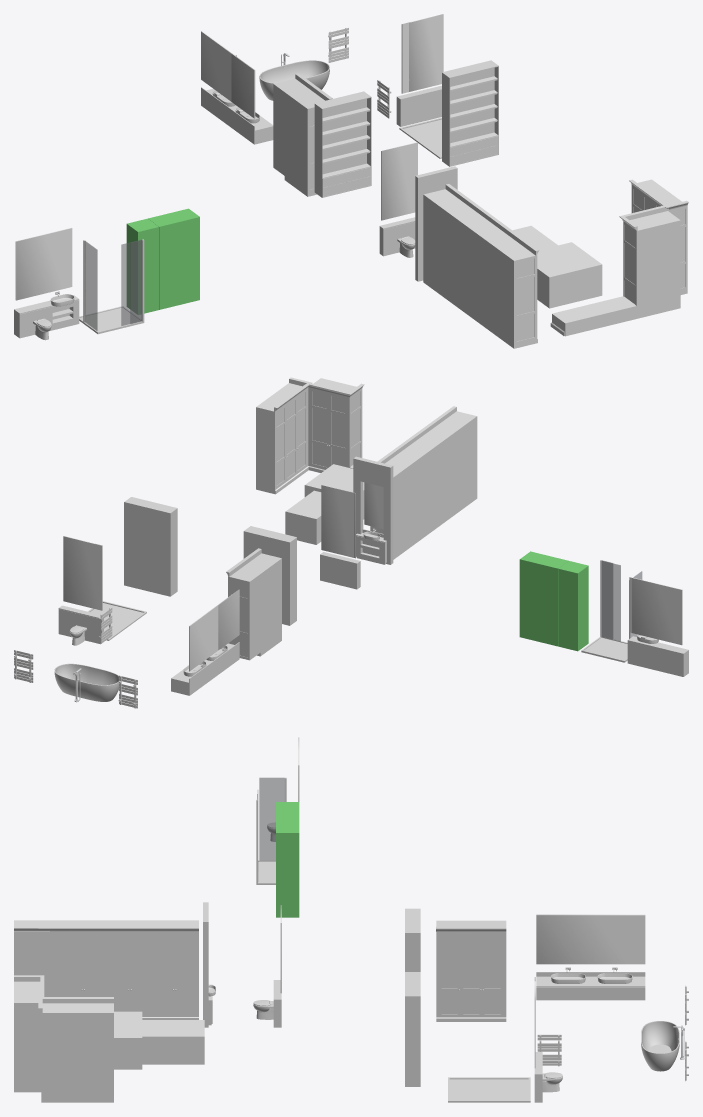
Rendered from RB05__Storey__FirstFloor__ProposedFixtures__MeshModel__.glb.
3 renders of one model, top to bottom at view 1: azimuth 30°, elevation 25°; view 2: azimuth 150°, elevation 25°; view 3: azimuth 270°, elevation 25°, orthographic. The views are drawn at different scales.
Visible parts, largest first — view 1: 27__ProposedBuilding__Fixtures::MAT000E__Generic__Grey, 27__ProposedBuilding__Fixtures::Default, 27__ProposedBuilding__Fixtures::MAT140__Mirror__ClearDefault, 27__ProposedBuilding__Fixtures::MAT014__ForDiscussion__Green, 27__ProposedBuilding__Fixtures::MAT101__Glass__ClearDefault; view 2: 27__ProposedBuilding__Fixtures::Default, 27__ProposedBuilding__Fixtures::MAT000E__Generic__Grey, 27__ProposedBuilding__Fixtures::MAT140__Mirror__ClearDefault, 27__ProposedBuilding__Fixtures::MAT014__ForDiscussion__Green, 27__ProposedBuilding__Fixtures::MAT101__Glass__ClearDefault; view 3: 27__ProposedBuilding__Fixtures::MAT000E__Generic__Grey, 27__ProposedBuilding__Fixtures::Default, 27__ProposedBuilding__Fixtures::MAT140__Mirror__ClearDefault, 27__ProposedBuilding__Fixtures::MAT014__ForDiscussion__Green, 27__ProposedBuilding__Fixtures::MAT101__Glass__ClearDefault.
Boxes of the visible parts, bbox=[...] form: 27__ProposedBuilding__Fixtures::MAT000E__Generic__Grey: bbox=[322, 76, 688, 348]; 27__ProposedBuilding__Fixtures::Default: bbox=[14, 28, 564, 338]; 27__ProposedBuilding__Fixtures::MAT140__Mirror__ClearDefault: bbox=[15, 14, 443, 300]; 27__ProposedBuilding__Fixtures::MAT014__ForDiscussion__Green: bbox=[126, 208, 199, 314]; 27__ProposedBuilding__Fixtures::MAT101__Glass__ClearDefault: bbox=[84, 240, 141, 330]; 27__ProposedBuilding__Fixtures::Default: bbox=[14, 456, 688, 708]; 27__ProposedBuilding__Fixtures::MAT000E__Generic__Grey: bbox=[256, 377, 477, 559]; 27__ProposedBuilding__Fixtures::MAT140__Mirror__ClearDefault: bbox=[63, 482, 682, 671]; 27__ProposedBuilding__Fixtures::MAT014__ForDiscussion__Green: bbox=[519, 551, 588, 651]; 27__ProposedBuilding__Fixtures::MAT101__Glass__ClearDefault: bbox=[602, 560, 642, 641]; 27__ProposedBuilding__Fixtures::MAT000E__Generic__Grey: bbox=[14, 920, 204, 1102]; 27__ProposedBuilding__Fixtures::Default: bbox=[203, 777, 688, 1102]; 27__ProposedBuilding__Fixtures::MAT140__Mirror__ClearDefault: bbox=[280, 737, 645, 1068]; 27__ProposedBuilding__Fixtures::MAT014__ForDiscussion__Green: bbox=[276, 802, 299, 917]; 27__ProposedBuilding__Fixtures::MAT101__Glass__ClearDefault: bbox=[257, 777, 284, 881].
Bounding box in the file's own units: 16.53 × 3 × 17.35.
6 materials, 1 textured.
